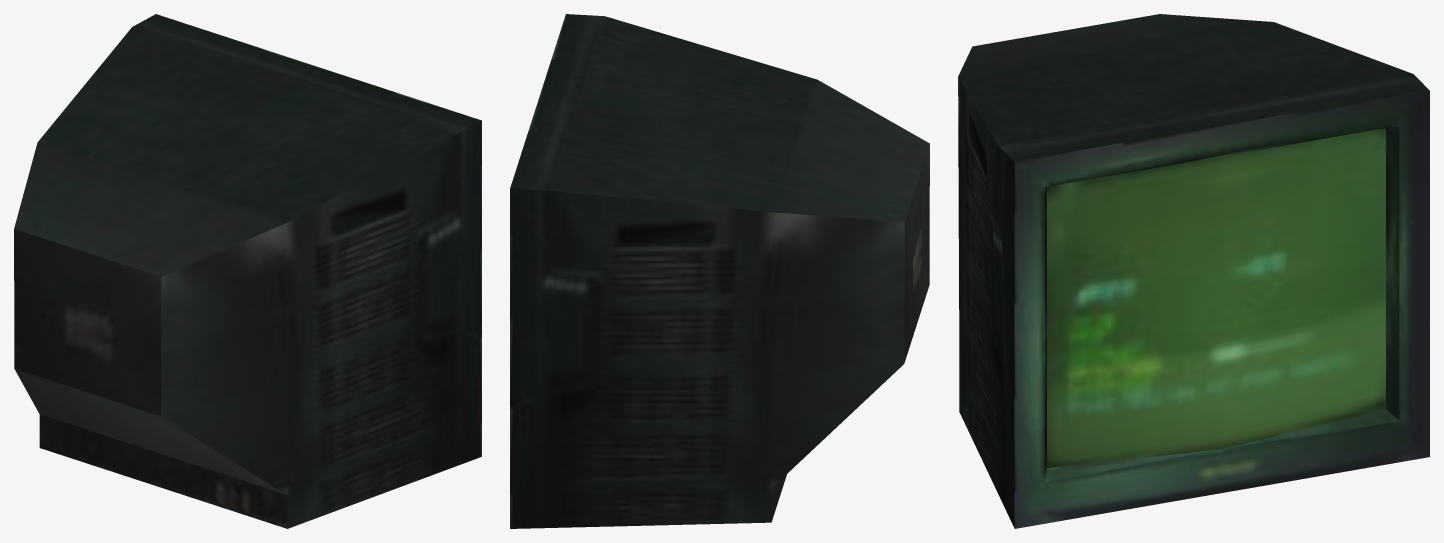
3 renders of one model, left to right at view 1: azimuth 30°, elevation 25°; view 2: azimuth 150°, elevation 25°; view 3: azimuth 270°, elevation 25°, orthographic. The views are drawn at different scales.
Parts seen in each view (by area): view 1: Object_0.005; view 2: Object_0.005; view 3: Object_0.005.
Part boxes in pixels (left/top/right/bottom): Object_0.005: left=14, top=14, right=481, bottom=528; Object_0.005: left=510, top=14, right=929, bottom=528; Object_0.005: left=958, top=14, right=1429, bottom=528.
Bounding box in the file's own units: 0.2993 × 0.2397 × 0.2798.
1 material, 1 textured.
